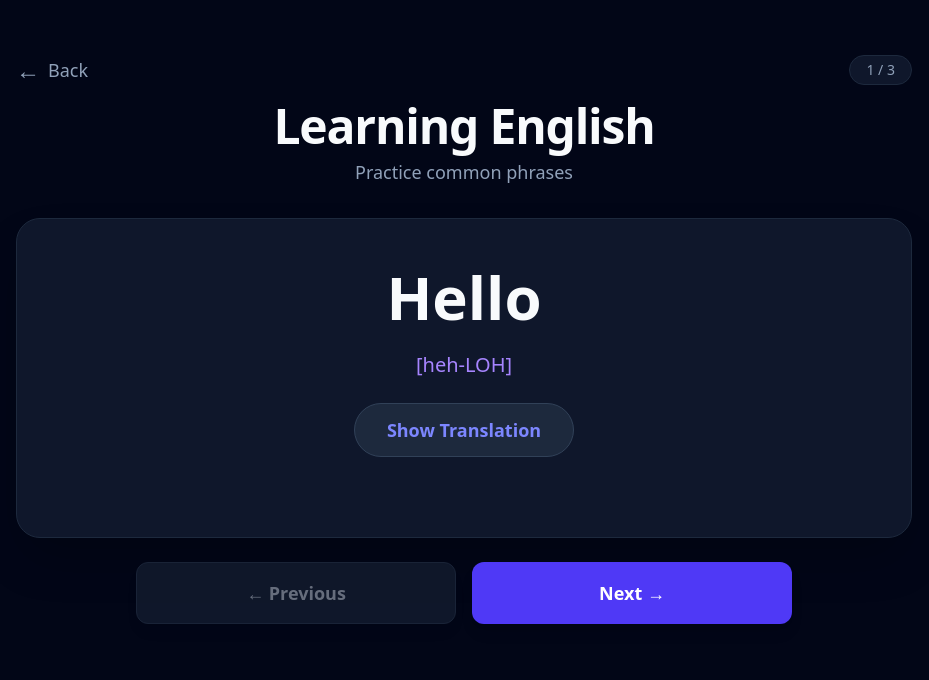
it: Learning › hides translation when navigating between phrases
The width and height of the screenshot is (929, 680).
// Show translation
Click the button labelled "Show Translation": (464, 430) 354,403 -> 574,457
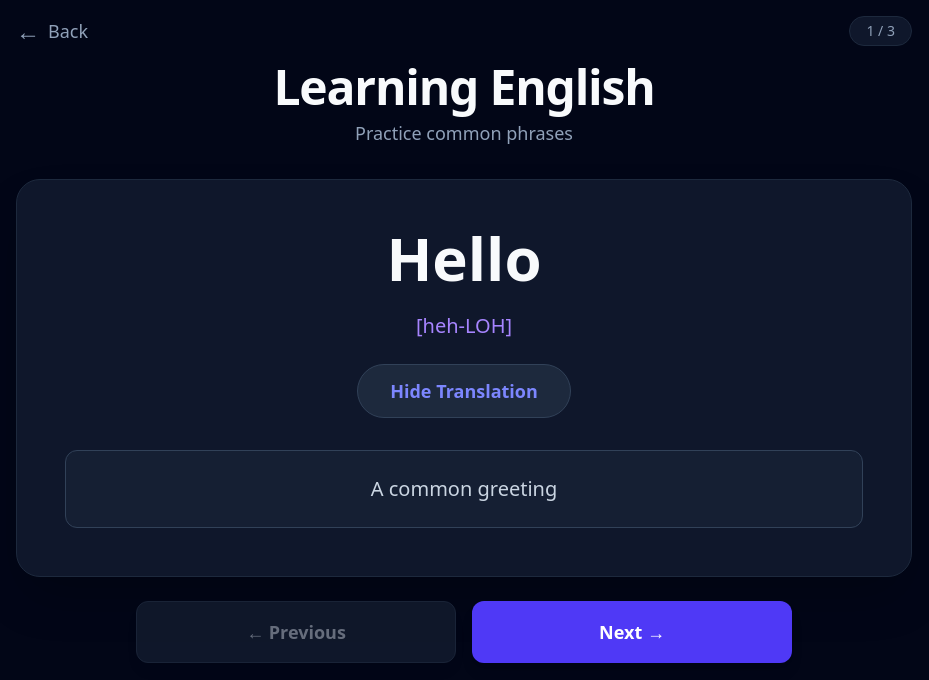
Check: the text "A common greeting" is shown, box 371,475 -> 557,502
// Navigate to next phrase
Click the button with aria-label "Next phrase": (632, 632) 472,601 -> 792,663
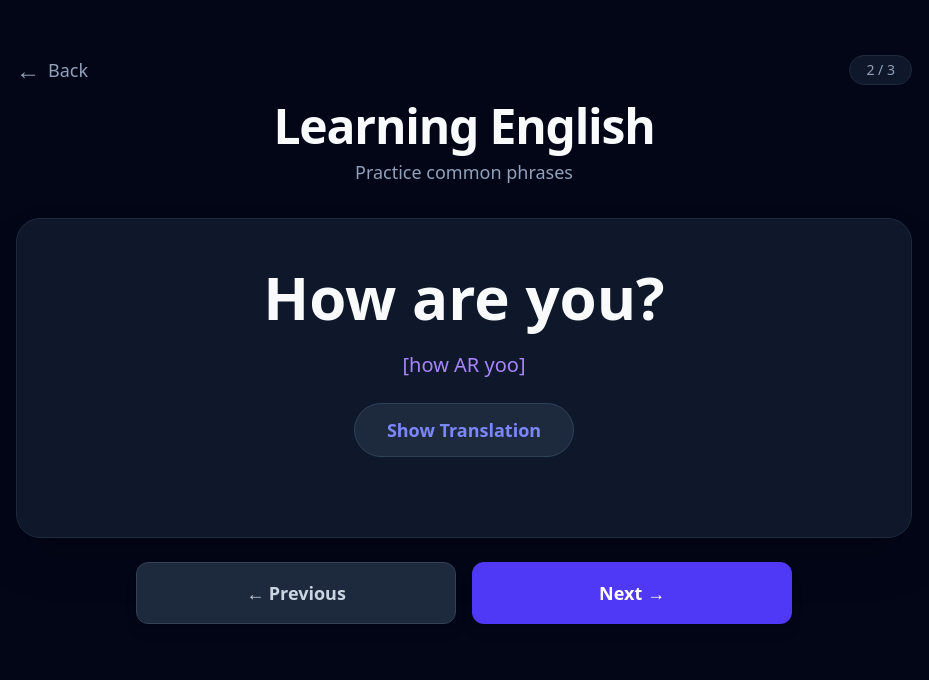
Check: the text "A common greeting" is gone
Check: the button labelled "Show Translation" is shown, box 354,403 -> 574,457
